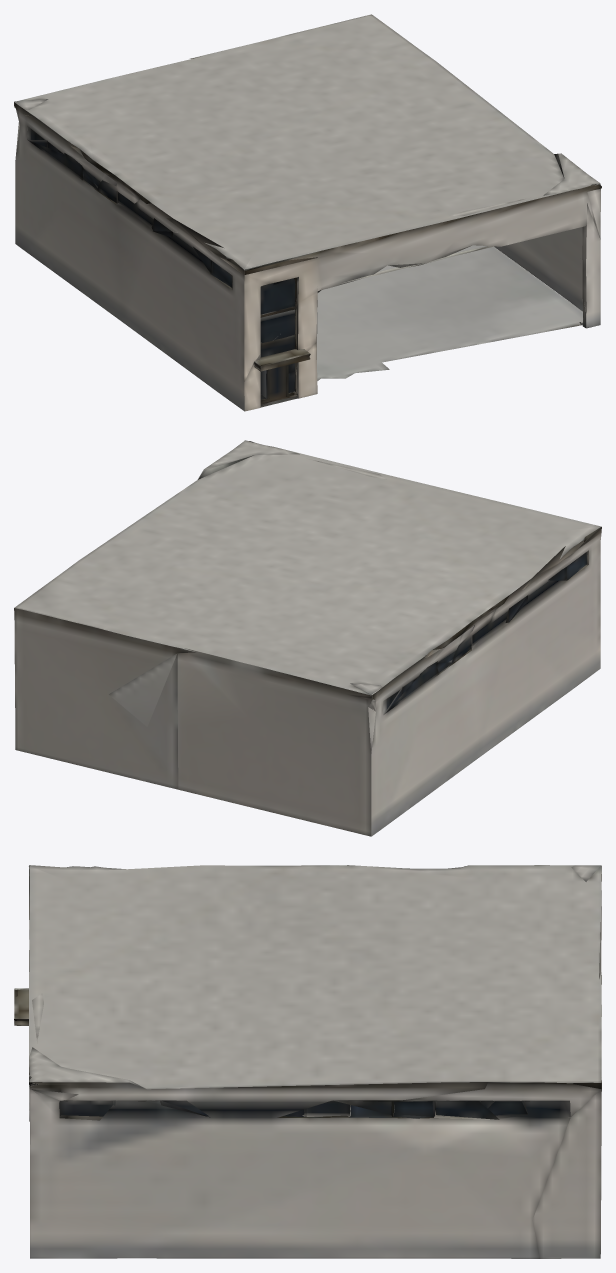
File: hangar_exec.glb
The picture shows the model from 3 angles, top to bottom: view 1: azimuth 30°, elevation 25°; view 2: azimuth 150°, elevation 25°; view 3: azimuth 270°, elevation 25°; orthographic projection. The views are drawn at different scales.
Visible parts, largest first — view 1: LO; view 2: LO; view 3: LO.
Boxes of the visible parts, x1,y1,x2,y2 form: LO: (14,14,601,411); LO: (14,440,601,836); LO: (14,865,601,1258).
Bounding box in the file's own units: 21 × 8 × 24.
Materials: 1 (1 with a texture image).
